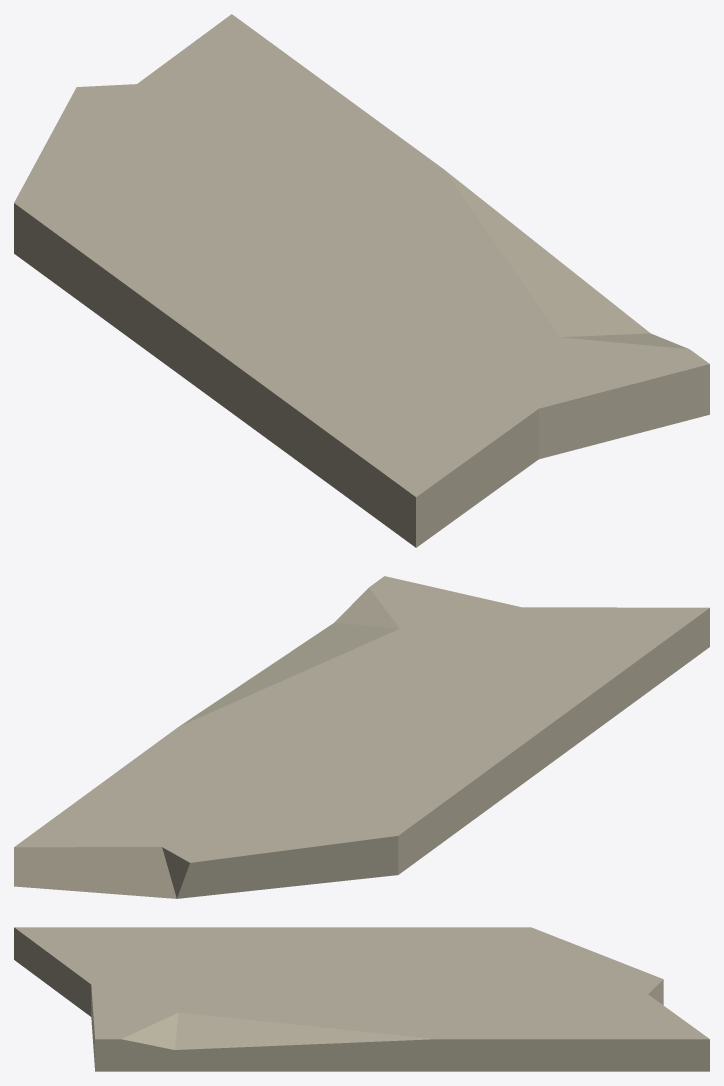
Rendered from stair_small_1.fbx.
3 views of the same model, one above another, from view 1: azimuth 30°, elevation 25°; view 2: azimuth 150°, elevation 25°; view 3: azimuth 270°, elevation 25° (orthographic). The views are drawn at different scales.
Visible parts, largest first — view 1: stair_small_1; view 2: stair_small_1; view 3: stair_small_1.
Part boxes in pixels (x1=…): stair_small_1: x1=14, y1=14, x2=709, y2=547; stair_small_1: x1=14, y1=576, x2=709, y2=898; stair_small_1: x1=14, y1=927, x2=709, y2=1071.
Size of the model in its own units: 2.02 by 0.2712 by 5.25.
